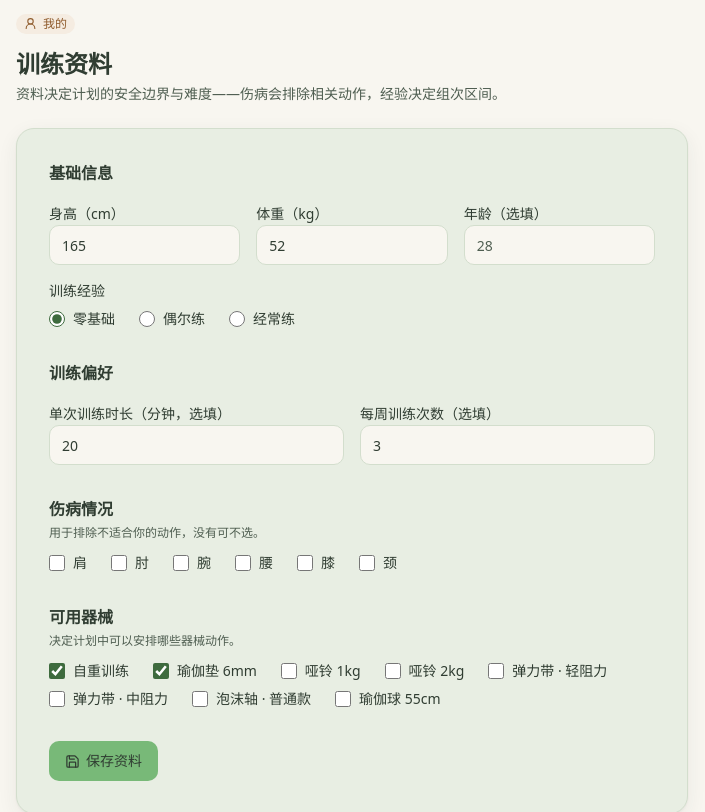
it: ProfilePage › blocks save with a validation error before hitting the network
Clear the field labelled "身高（cm）": [145, 245] box [49, 225, 240, 265]
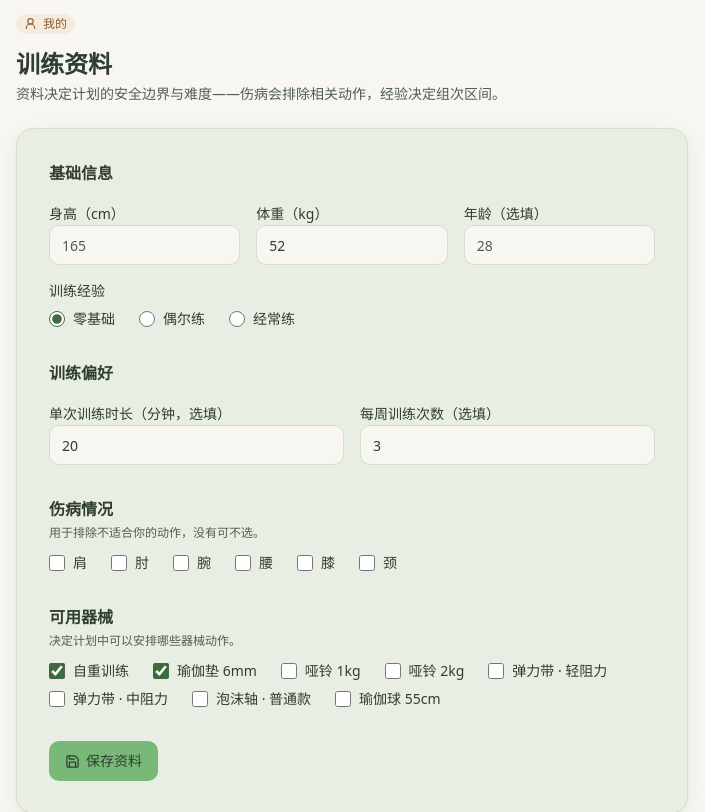
Click the button "保存资料": [104, 761] box [49, 741, 158, 781]
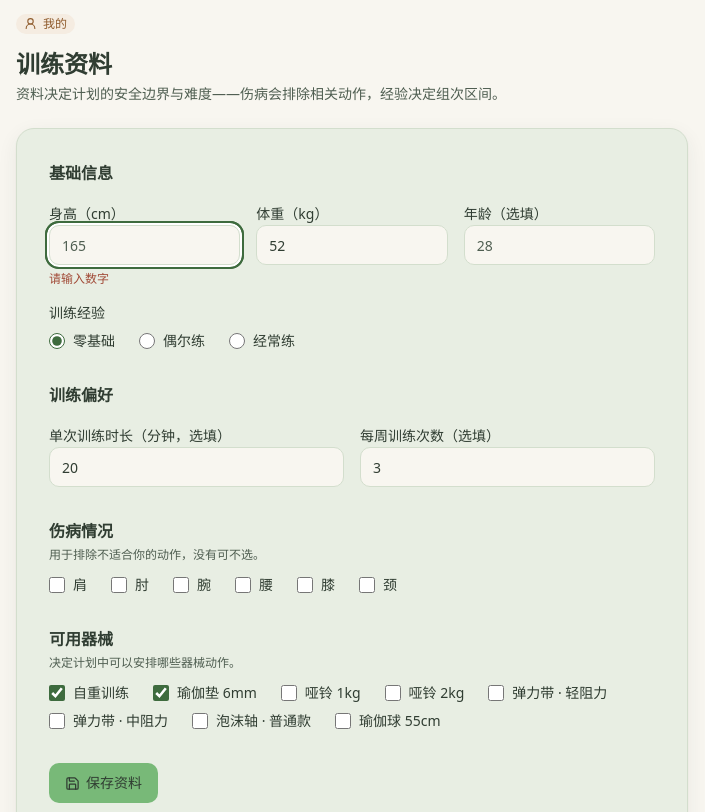
Expected: the text "请输入数字" is shown, [49, 270, 109, 287]
